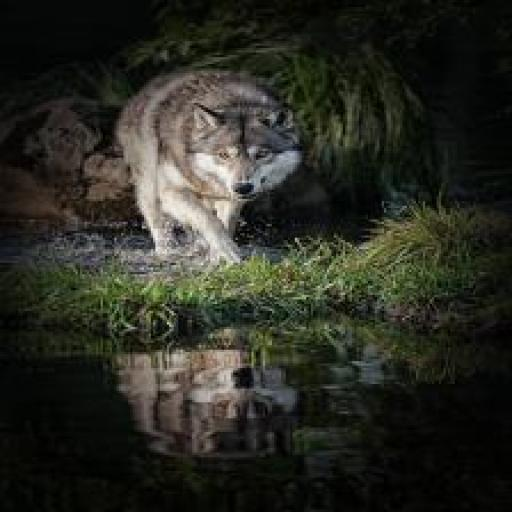wolf: (100, 55, 332, 280)
